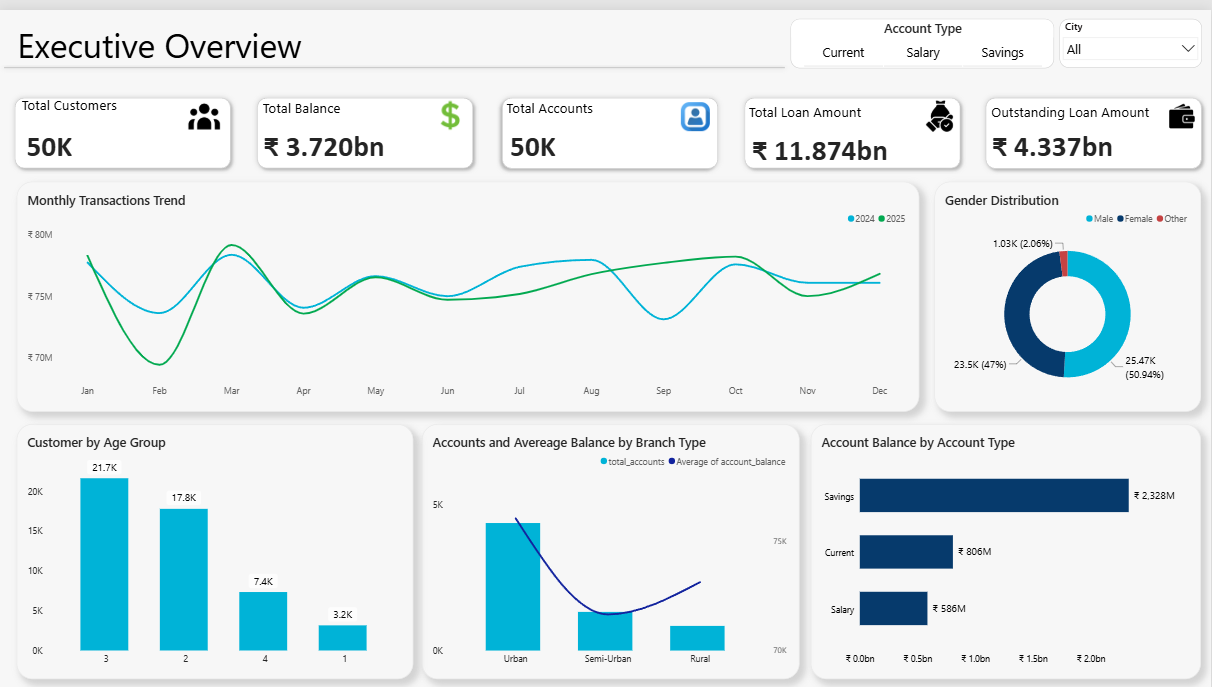

What the dashboard file says about the page in this screenshot:
{"tool":"powerbi","page":{"name":"Executive Overview","canvas":[1920,1080],"ordinal":0},"visuals":[{"type":"donutChart","title":"Gender Distribution","fields":{"Category":["bank customers_analysis.gender"],"Y":["CountNonNull(bank customers_analysis.customer_id)"]},"box":[1482,272,422,364],"z":0},{"type":"lineStackedColumnComboChart","title":"Customer by Age Group","fields":{"Category":["bank customers_analysis.age_group"],"Y":["CountNonNull(bank customers_analysis.customer_id)"]},"box":[28,656,628,404],"z":1000},{"type":"textbox","box":[28,18,452,112],"z":2000},{"type":"shape","box":[15,130,360,130],"z":3000},{"type":"card","title":"Total Customers","fields":{"Values":["measures (2).total_customers"]},"box":[0,170,160,85],"z":4000},{"type":"textbox","box":[35,136.3,290,60.3],"z":5000},{"type":"shape","box":[400.2,130.8,360,130],"z":6000},{"type":"card","title":"Total Customers","fields":{"Values":["account_measures.Total_accounts_balance"]},"box":[396.2,170.4,239.4,85.6],"z":7000},{"type":"textbox","box":[417.7,140.4,293.9,58.4],"z":8000},{"type":"shape","box":[788.3,130.4,360,130.4],"z":9000},{"type":"card","title":"Total Customers","fields":{"Values":["account_measures.total_accounts"]},"box":[792,170,108,86],"z":10000},{"type":"textbox","box":[803.9,140.4,323.1,60.3],"z":11000},{"type":"shape","box":[1172,130,360,130],"z":12000},{"type":"card","title":"Total Customers","fields":{"Values":["loan_measures.total_loan_amount"]},"box":[1171,176,258.3,86.1],"z":13000},{"type":"textbox","box":[1188.6,145.4,293.9,60],"z":14000},{"type":"shape","box":[1553.1,129.9,360.1,130.4],"z":15000},{"type":"card","title":"Total Customers","fields":{"Values":["loan_measures.outstanding_loan_amount"]},"box":[1550.1,170.9,239.4,85.6],"z":16000},{"type":"textbox","box":[1571.6,145,293.9,60],"z":17000},{"type":"lineChart","title":"Monthly Transactions Trend","fields":{"Y":["transaction_measures.total_transactions_value"],"Series":["DateTable.Year"],"Category":["DateTable.Month"]},"box":[28,272,1430,364],"z":18000},{"type":"clusteredBarChart","title":"Account Balance by Account Type","fields":{"Category":["bank accounts_analysis.account_type"],"Y":["account_measures.Total_accounts_balance"]},"box":[1286,656,618,404],"z":19000},{"type":"lineStackedColumnComboChart","title":"Accounts and Avereage Balance by Branch Type","fields":{"Y":["account_measures.total_accounts"],"Y2":["Avg(bank accounts_analysis.account_balance)"],"Category":["bank branches_analysis.branch_type"]},"box":[670,656,598,404],"z":20000},{"type":"slicer","fields":{"Values":["bank customers_analysis.city"]},"box":[1679.2,13.8,225.4,77.7],"z":21000},{"type":"slicer","title":"Account Type","fields":{"Values":["bank accounts_analysis.account_type"]},"box":[1253.1,13.8,417.7,78.5],"z":22000},{"type":"shape","box":[0,82.4,1253,18.3],"z":23000},{"type":"image","box":[280,140,90,55],"z":24000},{"type":"image","box":[1058,146,90,46],"z":25000},{"type":"image","box":[670,142,90,50],"z":26000},{"type":"image","box":[1448,140,84,56],"z":27000},{"type":"image","box":[1834,148,80,40],"z":28000}]}

Visuals, with their boxes in screenshot pixels (x1, y1, x2, y2), scaled from the page's 1920x1080 canvas onto the 1212x687 screenshot:
"Gender Distribution" donutChart: (x1=936, y1=173, x2=1202, y2=405)
"Customer by Age Group" lineStackedColumnComboChart: (x1=18, y1=417, x2=414, y2=674)
textbox: (x1=18, y1=11, x2=303, y2=83)
shape: (x1=9, y1=83, x2=237, y2=165)
"Total Customers" card: (x1=0, y1=108, x2=101, y2=162)
textbox: (x1=22, y1=87, x2=205, y2=125)
shape: (x1=253, y1=83, x2=480, y2=166)
"Total Customers" card: (x1=250, y1=108, x2=401, y2=163)
textbox: (x1=264, y1=89, x2=449, y2=126)
shape: (x1=498, y1=83, x2=725, y2=166)
"Total Customers" card: (x1=500, y1=108, x2=568, y2=163)
textbox: (x1=507, y1=89, x2=711, y2=128)
shape: (x1=740, y1=83, x2=967, y2=165)
"Total Customers" card: (x1=739, y1=112, x2=902, y2=167)
textbox: (x1=750, y1=92, x2=936, y2=131)
shape: (x1=980, y1=83, x2=1208, y2=166)
"Total Customers" card: (x1=979, y1=109, x2=1130, y2=163)
textbox: (x1=992, y1=92, x2=1178, y2=130)
"Monthly Transactions Trend" lineChart: (x1=18, y1=173, x2=920, y2=405)
"Account Balance by Account Type" clusteredBarChart: (x1=812, y1=417, x2=1202, y2=674)
"Accounts and Avereage Balance by Branch Type" lineStackedColumnComboChart: (x1=423, y1=417, x2=800, y2=674)
slicer - bank customers_analysis.city: (x1=1060, y1=9, x2=1202, y2=58)
"Account Type" slicer: (x1=791, y1=9, x2=1055, y2=59)
shape: (x1=0, y1=52, x2=791, y2=64)
image: (x1=177, y1=89, x2=234, y2=124)
image: (x1=668, y1=93, x2=725, y2=122)
image: (x1=423, y1=90, x2=480, y2=122)
image: (x1=914, y1=89, x2=967, y2=125)
image: (x1=1158, y1=94, x2=1208, y2=120)
